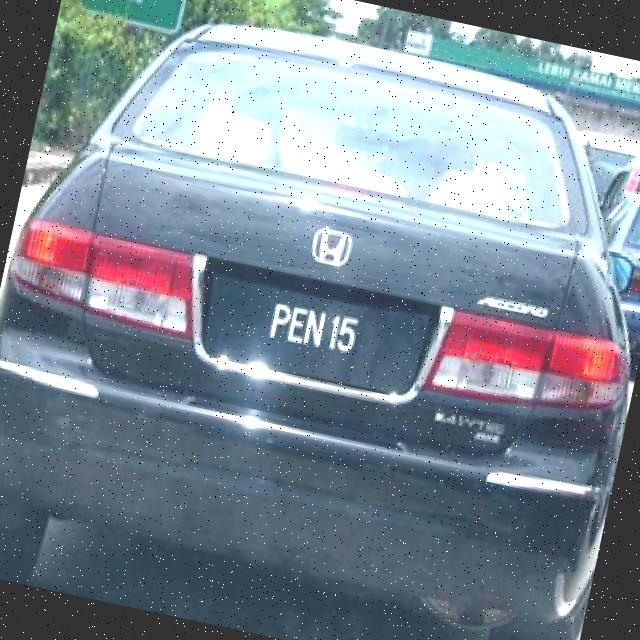Autre: (222, 274, 396, 384)
